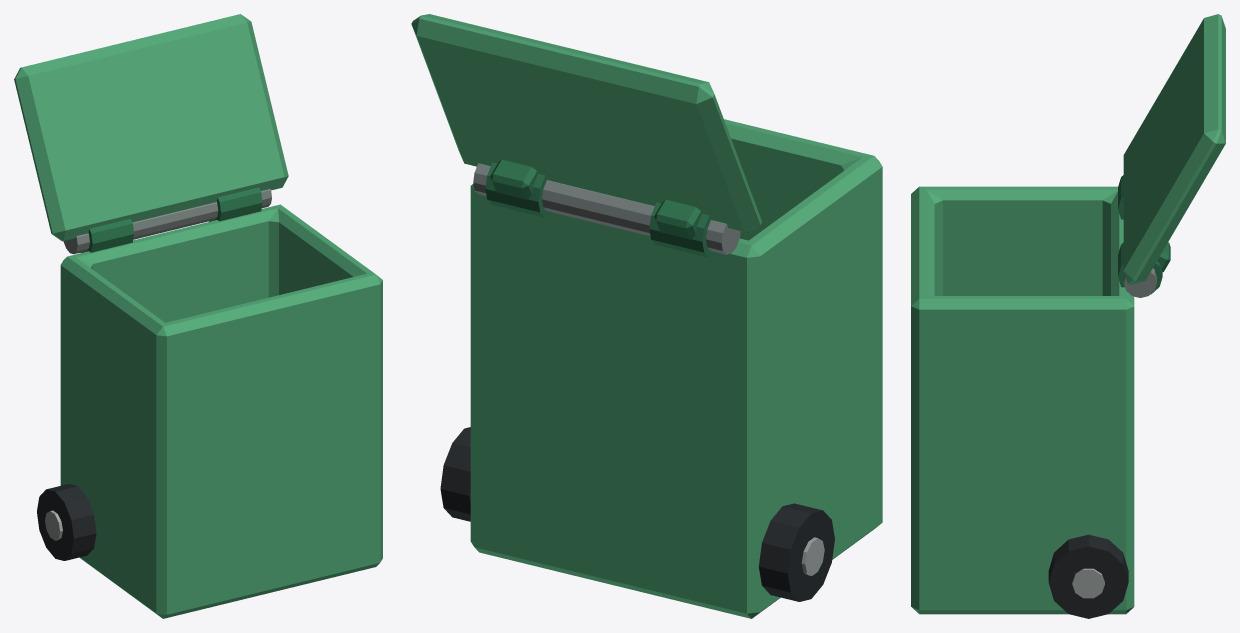
The model's file is garbage_bin.glb.
3 renders of one model, left to right at view 1: azimuth 30°, elevation 25°; view 2: azimuth 150°, elevation 25°; view 3: azimuth 270°, elevation 25°, orthographic. The views are drawn at different scales.
Visible parts, largest first — view 1: BinOpenShell, OpenLidPanel, WheelLeft, LidHingeAxle, LidHingeSleeveLeft, LidHingeSleeveRight; view 2: BinOpenShell, OpenLidPanel, WheelLeft, LidHingeAxle, WheelRight, LidHingeEarLeft, LidHingeEarRight, LidHingeSleeveLeft, LidHingeSleeveRight, WheelHubLeft; view 3: BinOpenShell, OpenLidPanel, WheelRight, WheelHubRight, LidHingeAxle.
Part boxes in pixels (x1,y1,x2,y2): BinOpenShell: (60, 204, 382, 618); OpenLidPanel: (14, 14, 288, 241); WheelLeft: (37, 484, 96, 560); LidHingeAxle: (63, 189, 271, 254); LidHingeSleeveLeft: (80, 218, 134, 252); LidHingeSleeveRight: (209, 187, 262, 221); BinOpenShell: (470, 119, 882, 618); OpenLidPanel: (411, 14, 761, 231); WheelLeft: (758, 503, 834, 601); LidHingeAxle: (473, 163, 740, 254); WheelRight: (440, 427, 470, 521); LidHingeEarLeft: (654, 199, 701, 239); LidHingeEarRight: (490, 159, 537, 199); LidHingeSleeveLeft: (649, 202, 717, 257); LidHingeSleeveRight: (485, 162, 553, 217); WheelHubLeft: (801, 537, 824, 575); BinOpenShell: (911, 186, 1134, 614); OpenLidPanel: (1123, 14, 1225, 284); WheelRight: (1048, 534, 1128, 618); WheelHubRight: (1072, 568, 1104, 598); LidHingeAxle: (1124, 268, 1156, 297).
Size of the model in its own units: 1.47 by 2.28 by 1.34.
